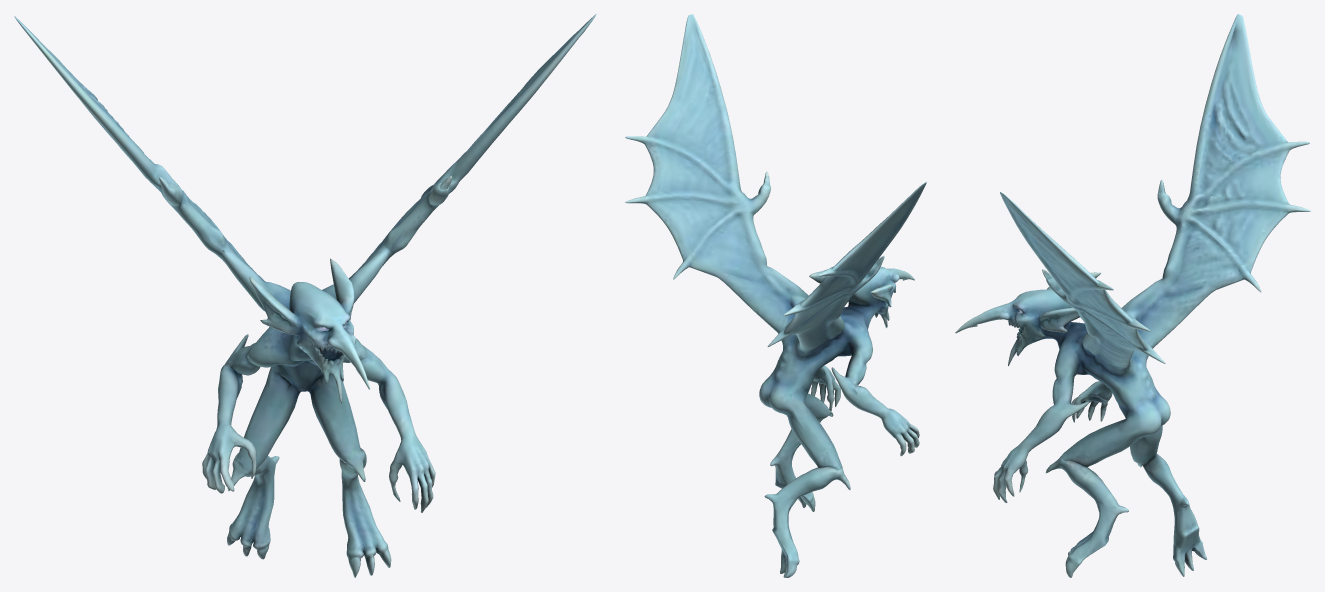
File: MZ4250 - Ice Mephit_3 2025.glb
The picture shows the model from 3 angles, left to right: view 1: azimuth 30°, elevation 25°; view 2: azimuth 150°, elevation 25°; view 3: azimuth 270°, elevation 25°; orthographic projection. The views are drawn at different scales.
Visible parts, largest first — view 1: Cylinder.001; view 2: Cylinder.001; view 3: Cylinder.001.
Part boxes in pixels (box(x1,y1,x2,y2)): Cylinder.001: box(14, 14, 596, 577); Cylinder.001: box(625, 14, 926, 577); Cylinder.001: box(955, 14, 1310, 577).
Size of the model in its own units: 101 by 121 by 81.88.
1 material, 1 textured.
